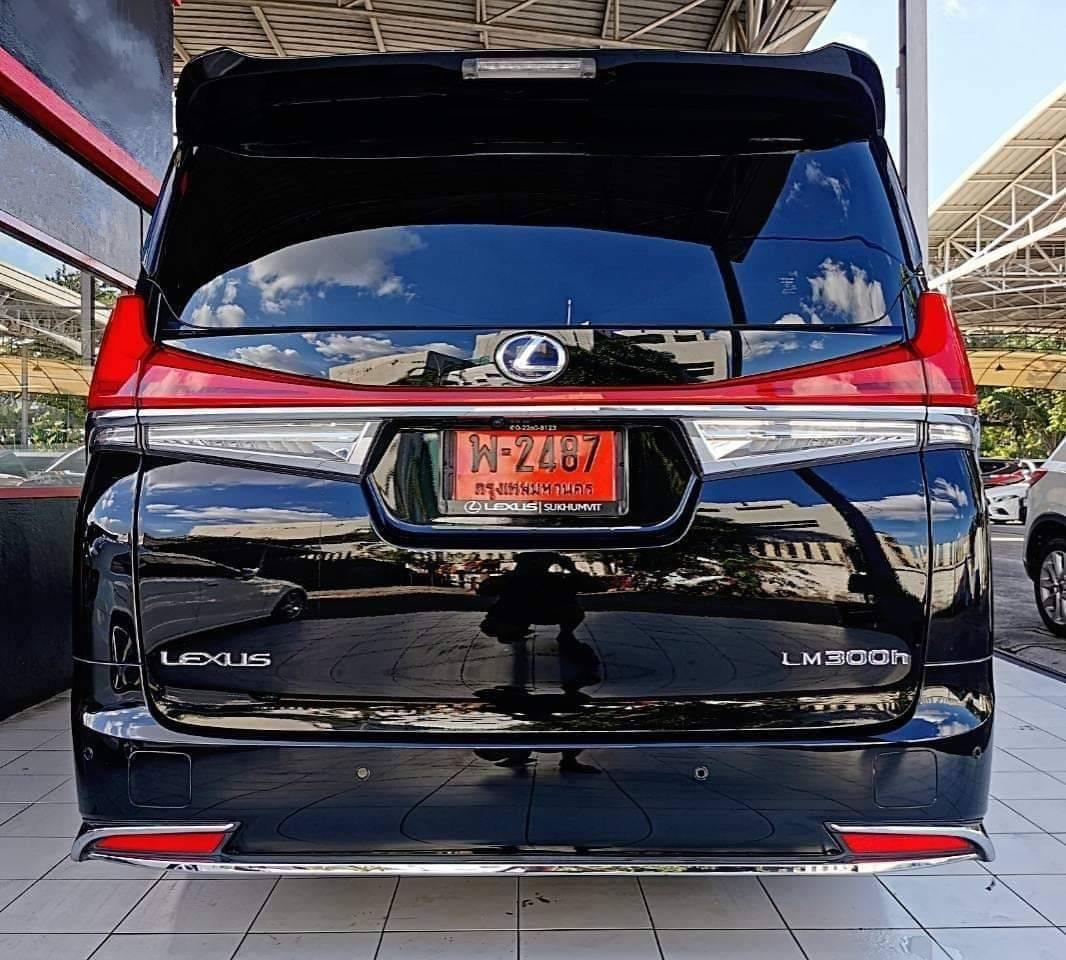license-plate: (438, 420, 626, 520)
